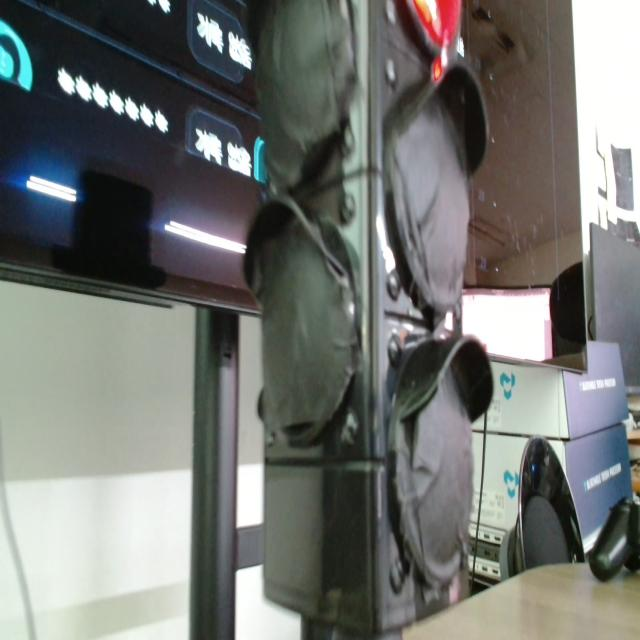red_light: (413, 0, 461, 47), (433, 57, 442, 82)
